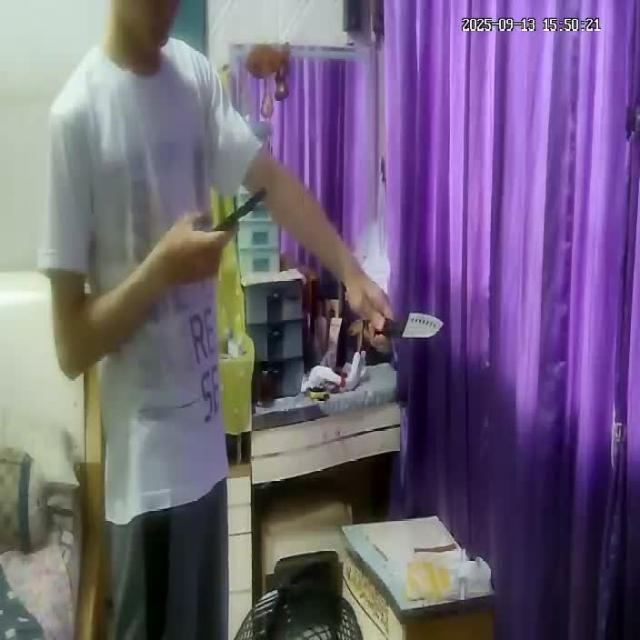senjata_tajam: (388, 310, 446, 339)
